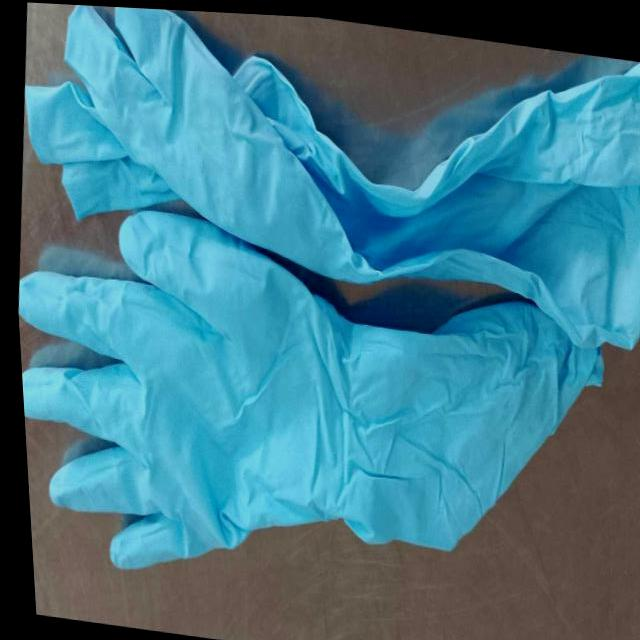General: (19, 4, 638, 570)
